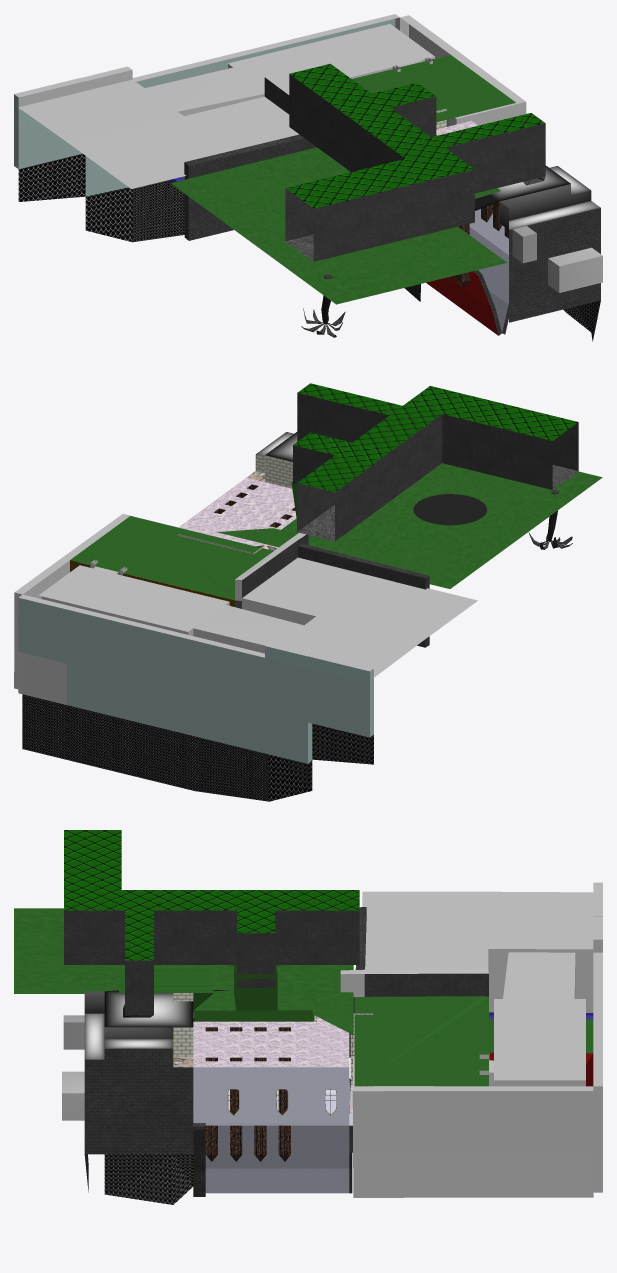
File: level_two.obj
3 views of the same model, one above another, from view 1: azimuth 30°, elevation 25°; view 2: azimuth 150°, elevation 25°; view 3: azimuth 270°, elevation 25° (orthographic). The views are drawn at different scales.
Visible parts, largest first — view 1: Library, Tunnels, Throne_room, Courtyard, Palm_Tree; view 2: Library, Tunnels, Courtyard, Throne_room, Fountain; view 3: Library, Throne_room, Tunnels, Courtyard.
Boxes of the visible parts, left/top/right/bottom form: Library: left=14, top=14, right=526, bottom=242; Tunnels: left=285, top=63, right=545, bottom=261; Throne_room: left=426, top=108, right=602, bottom=341; Courtyard: left=171, top=135, right=506, bottom=304; Palm_Tree: left=301, top=274, right=345, bottom=337; Library: left=14, top=514, right=477, bottom=801; Tunnels: left=293, top=383, right=578, bottom=541; Courtyard: left=217, top=463, right=602, bottom=588; Throne_room: left=177, top=432, right=297, bottom=554; Fountain: left=413, top=494, right=486, bottom=525; Library: left=340, top=882, right=602, bottom=1197; Throne_room: left=62, top=990, right=373, bottom=1204; Tunnels: left=64, top=830, right=359, bottom=1017; Courtyard: left=14, top=908, right=353, bottom=1090.
Size of the model in its own units: 45.02 by 27.57 by 57.33.
